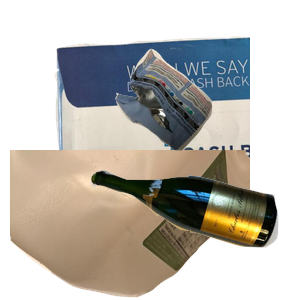glass: (88, 167, 300, 300)
paper: (52, 34, 292, 214)
plastic: (10, 150, 250, 300)
trash: (113, 46, 300, 189)
